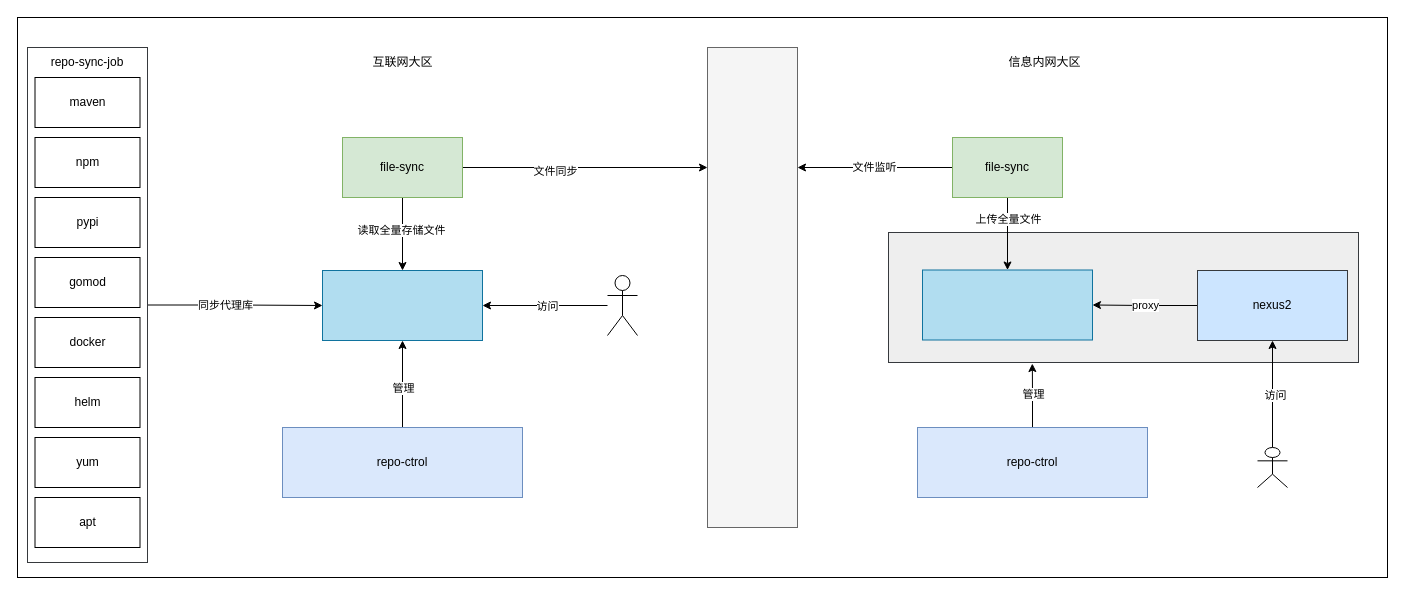
The diagram is 1405 pixels wide and 595 high, and some of its shapes have lost their labels. Here are the shapes that lost their labels. From the top down, the centre of each, then its label:
At pixel 402 305: "nexus".
At pixel 752 287: "网闸".
At pixel 1007 304: "nexus1".
At pixel 1272 467: "Actor".
